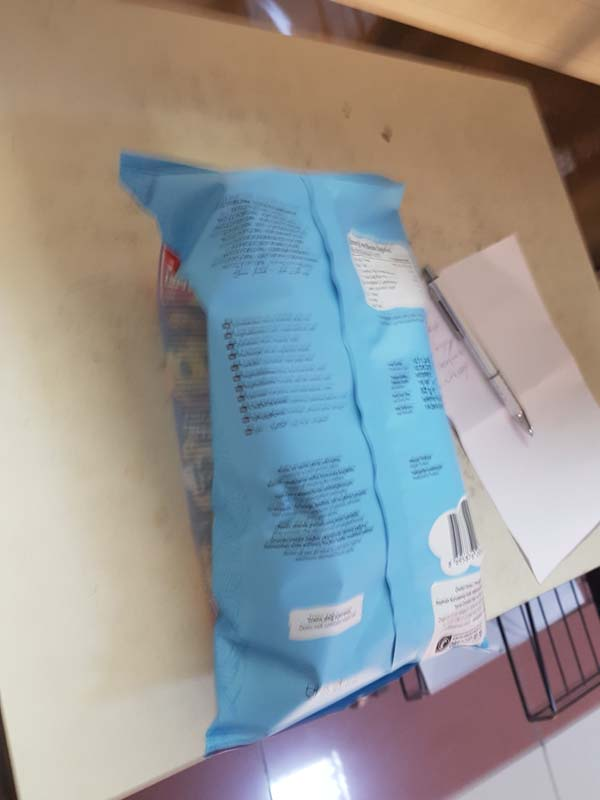popcorn: (116, 148, 509, 748)
